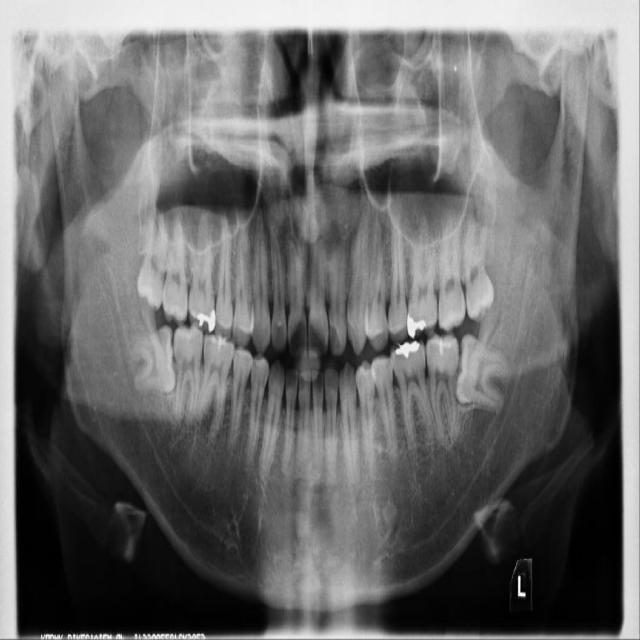Filling: (407, 313, 427, 339), (197, 309, 216, 333), (395, 341, 420, 359), (432, 337, 452, 355), (212, 336, 228, 351)
impacted tooth: (454, 336, 511, 413), (122, 327, 176, 393), (461, 214, 492, 320), (135, 213, 168, 307)
